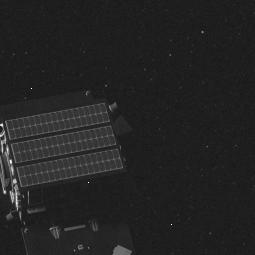proba_2: (0, 91, 141, 255)
